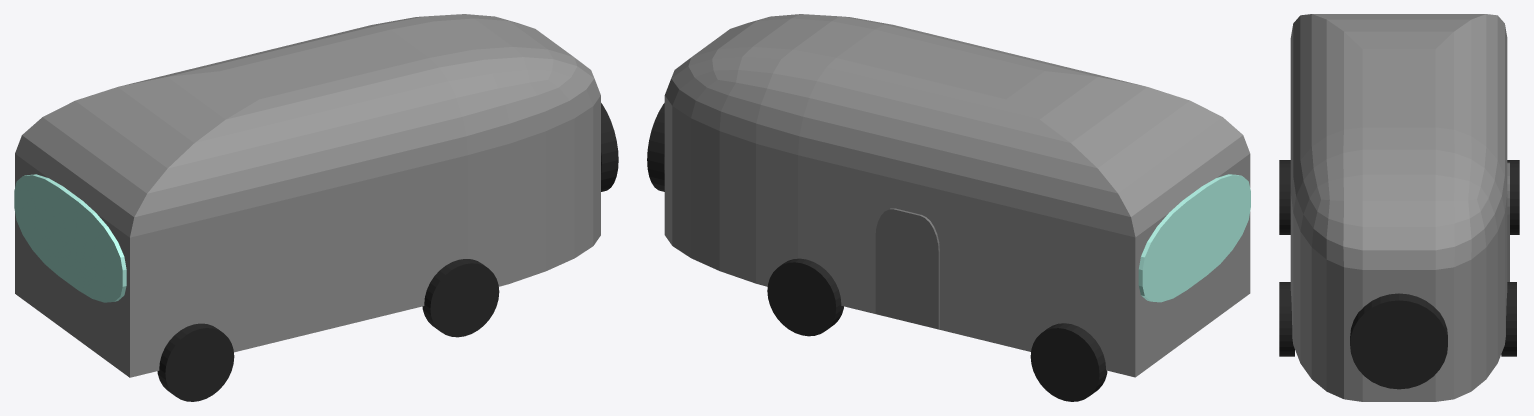
Rendered from trailer.fbx.
3 views of the same model, side by side, from view 1: azimuth 30°, elevation 25°; view 2: azimuth 150°, elevation 25°; view 3: azimuth 270°, elevation 25° (orthographic). The views are drawn at different scales.
Visible parts, largest first — view 1: Cube, Cube.002, Cylinder.001, Cylinder.003, Cylinder; view 2: Cube, Cube.002, Cube.001, Cylinder.004, Cylinder.002, Cylinder; view 3: Cube, Cylinder, Cylinder.003, Cylinder.001, Cylinder.002, Cylinder.004, Cube.001.
Part boxes in pixels (left/top/right/bottom): Cube: left=15, top=14, right=600, bottom=377; Cube.002: left=14, top=174, right=126, bottom=302; Cylinder.001: left=157, top=323, right=234, bottom=401; Cylinder.003: left=422, top=259, right=499, bottom=337; Cylinder: left=601, top=103, right=618, bottom=191; Cube: left=664, top=14, right=1250, bottom=377; Cube.002: left=1138, top=174, right=1250, bottom=302; Cube.001: left=875, top=208, right=939, bottom=329; Cylinder.004: left=1030, top=323, right=1107, bottom=401; Cylinder.002: left=767, top=258, right=843, bottom=336; Cylinder: left=647, top=103, right=664, bottom=191; Cube: left=1290, top=14, right=1507, bottom=401; Cylinder: left=1350, top=293, right=1447, bottom=389; Cylinder.003: left=1279, top=282, right=1294, bottom=356; Cylinder.001: left=1279, top=160, right=1290, bottom=234; Cylinder.002: left=1501, top=282, right=1516, bottom=356; Cylinder.004: left=1507, top=160, right=1519, bottom=234; Cube.001: left=1507, top=162, right=1509, bottom=281.
Size of the model in its own units: 1826 by 812 by 770.
